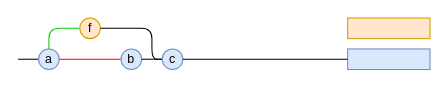
Some shapes in this 448 by 88 pixel diagram are drawn without their labels. Each missing label, with the box of its shape:
feature: (347, 17, 430, 39)
main: (347, 48, 430, 70)
